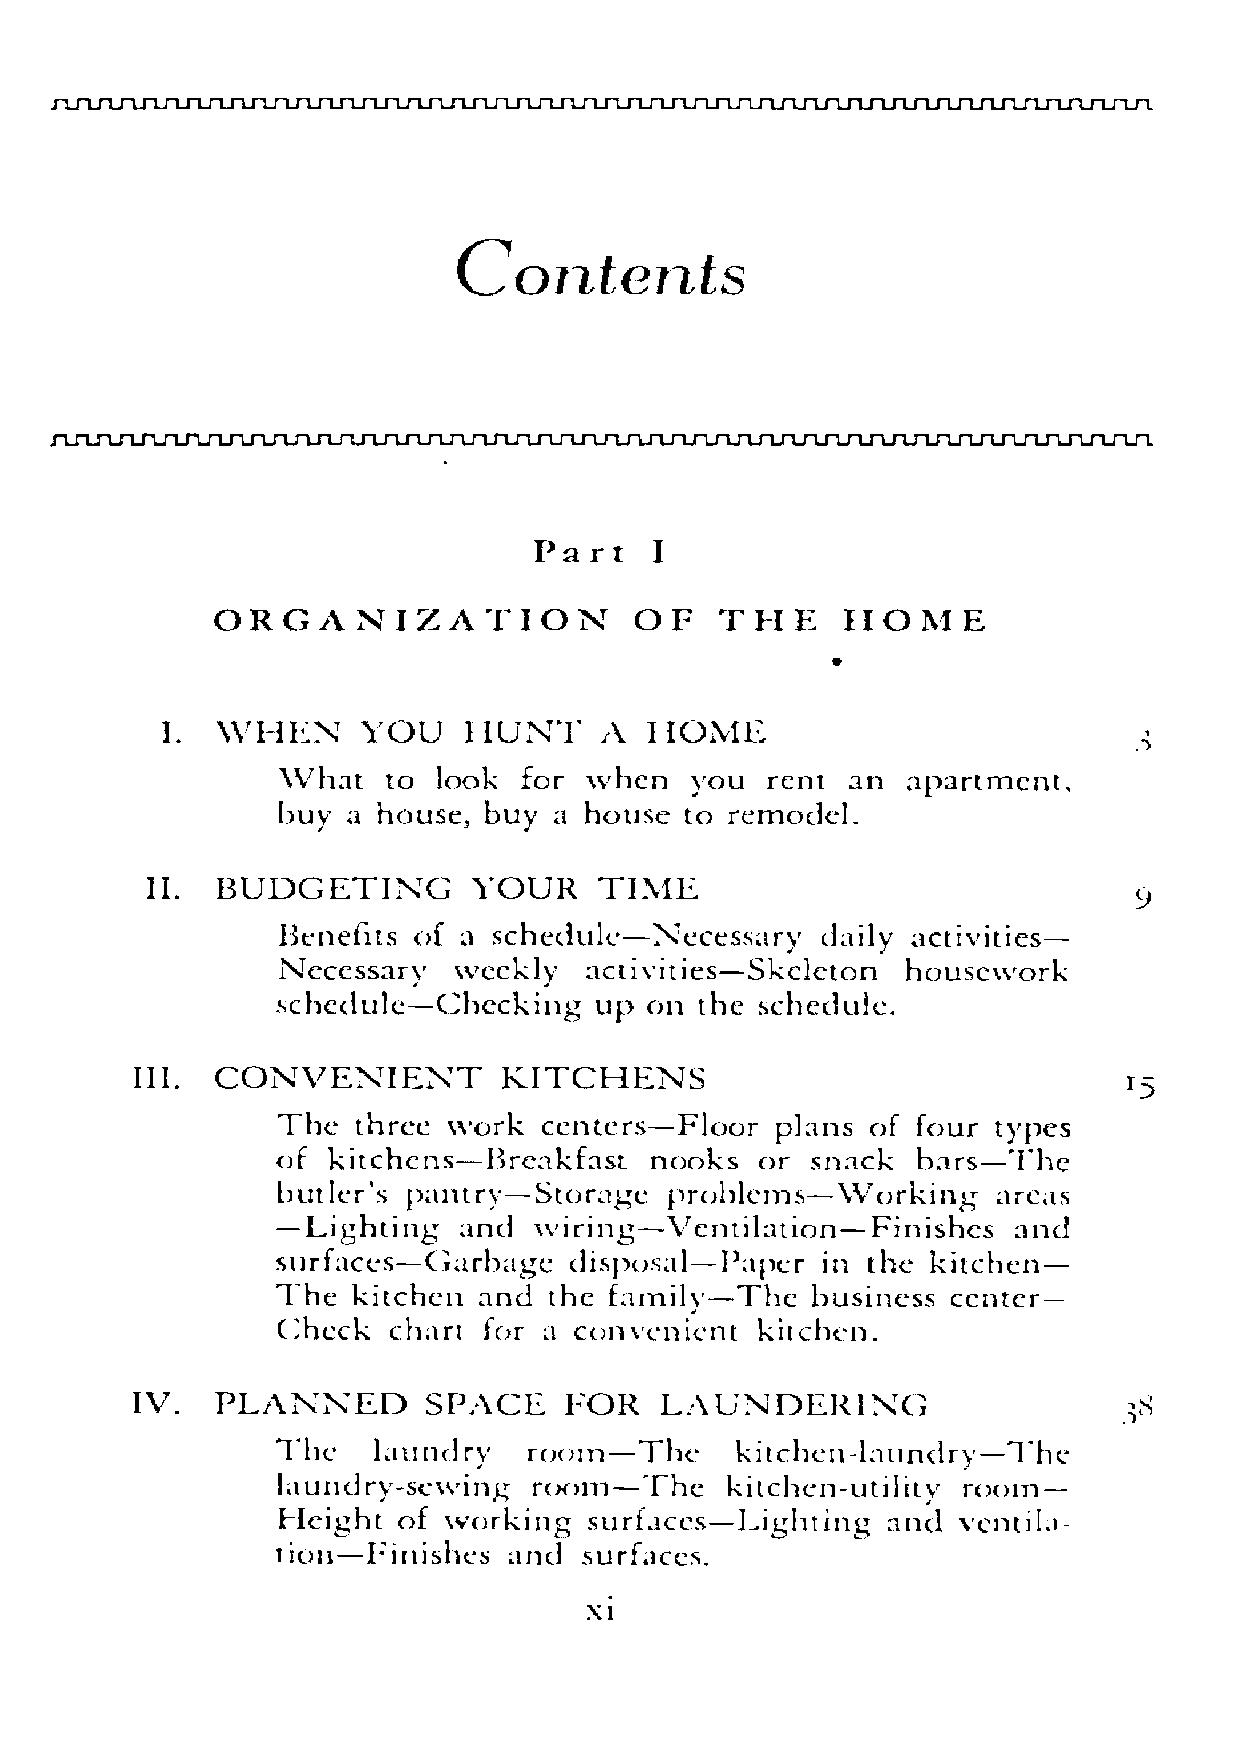TOC_chapter: (127, 1057, 1075, 1347), (123, 1388, 1074, 1571), (144, 871, 1074, 1019), (153, 717, 1075, 833), (212, 535, 988, 636)
TOC_pagenumber: (1117, 1066, 1162, 1104), (1123, 1388, 1155, 1432), (1127, 723, 1157, 757), (1130, 880, 1157, 917)
chapter: (450, 234, 749, 301)
content_pagenumber: (578, 1586, 621, 1631)
